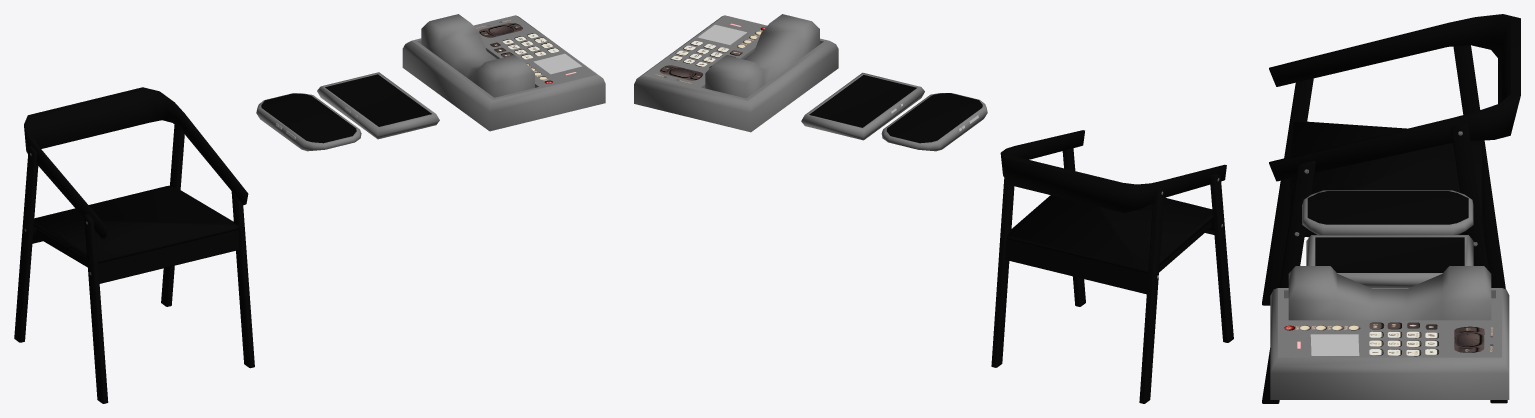
File: Phones.fbx
3 views of the same model, side by side, from view 1: azimuth 30°, elevation 25°; view 2: azimuth 150°, elevation 25°; view 3: azimuth 270°, elevation 25° (orthographic). The views are drawn at different scales.
Parts seen in each view (by area): view 1: Chair Office CLean, PhoneClean, CellPhoneClean, CellPhoneClean2; view 2: Chair Office CLean, PhoneClean, CellPhoneClean, CellPhoneClean2; view 3: Chair Office CLean, PhoneClean, CellPhoneClean2, CellPhoneClean.
Part boxes in pixels (<box>): Chair Office CLean: <box>14,87,254,403</box>; PhoneClean: <box>402,14,605,131</box>; CellPhoneClean: <box>317,72,439,139</box>; CellPhoneClean2: <box>256,93,361,151</box>; Chair Office CLean: <box>991,130,1233,403</box>; PhoneClean: <box>634,14,838,132</box>; CellPhoneClean: <box>801,72,924,140</box>; CellPhoneClean2: <box>881,93,987,151</box>; Chair Office CLean: <box>1262,14,1520,403</box>; PhoneClean: <box>1270,266,1509,399</box>; CellPhoneClean2: <box>1302,190,1473,234</box>; CellPhoneClean: <box>1306,235,1473,287</box>.
Size of the model in its own units: 68.16 by 28.88 by 21.95.
